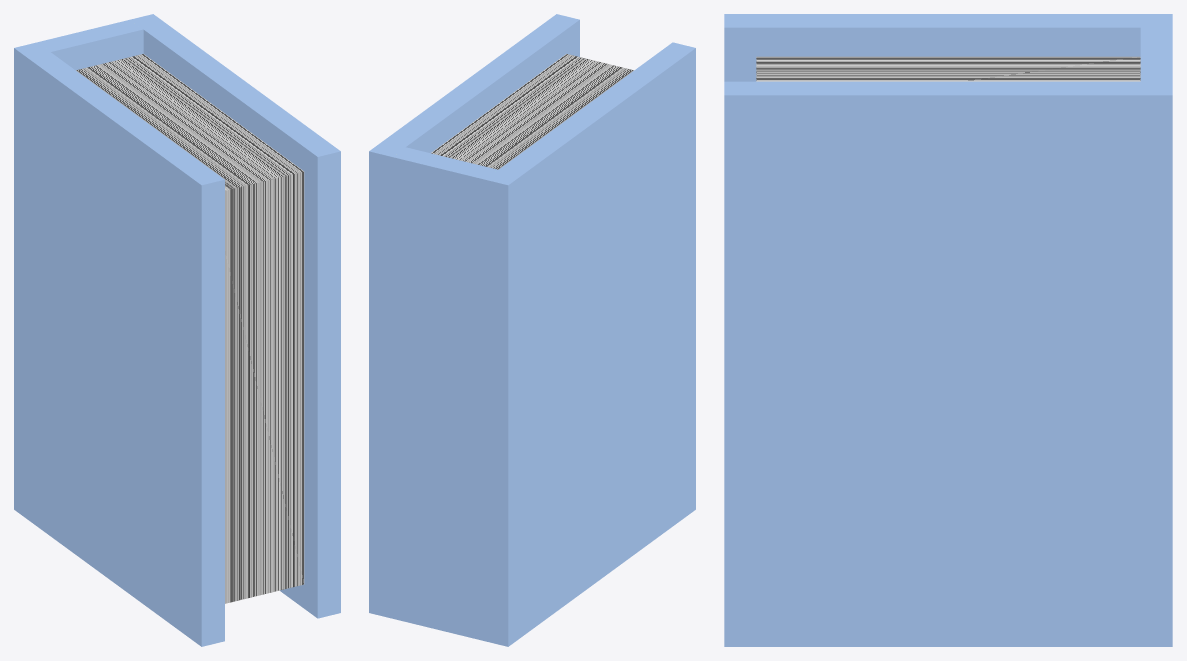
Rendered from book_cyan.glb.
The picture shows the model from 3 angles, left to right: view 1: azimuth 30°, elevation 25°; view 2: azimuth 150°, elevation 25°; view 3: azimuth 270°, elevation 25°; orthographic projection. The views are drawn at different scales.
Size of the model in its own units: 12 by 38 by 28.
Materials: 1 (1 with a texture image).
